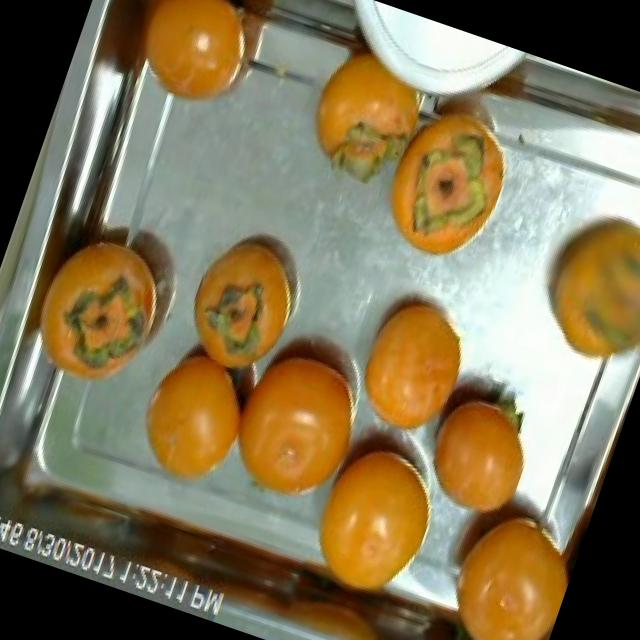Fruit: (196, 291, 388, 530), (356, 65, 545, 289), (281, 414, 469, 632), (13, 210, 192, 417), (277, 23, 448, 210), (411, 467, 593, 640), (64, 0, 289, 138), (330, 266, 491, 458), (164, 202, 324, 388), (402, 362, 561, 544), (115, 323, 272, 504), (512, 180, 640, 389)
